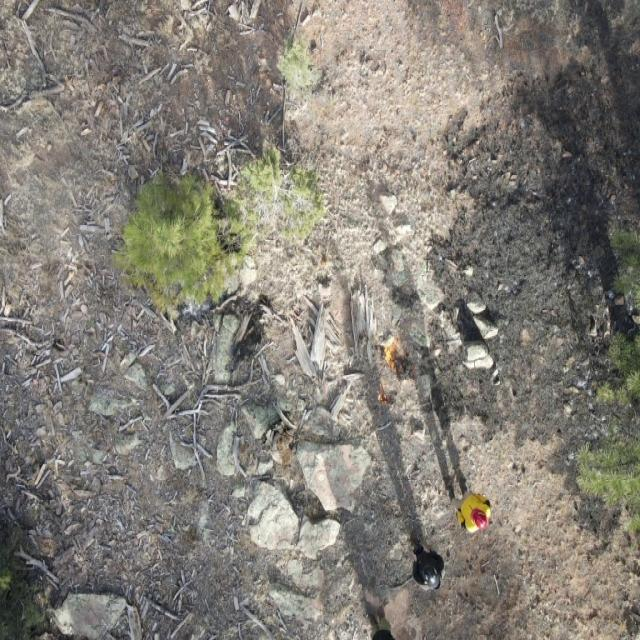fire: (368, 332, 423, 411)
